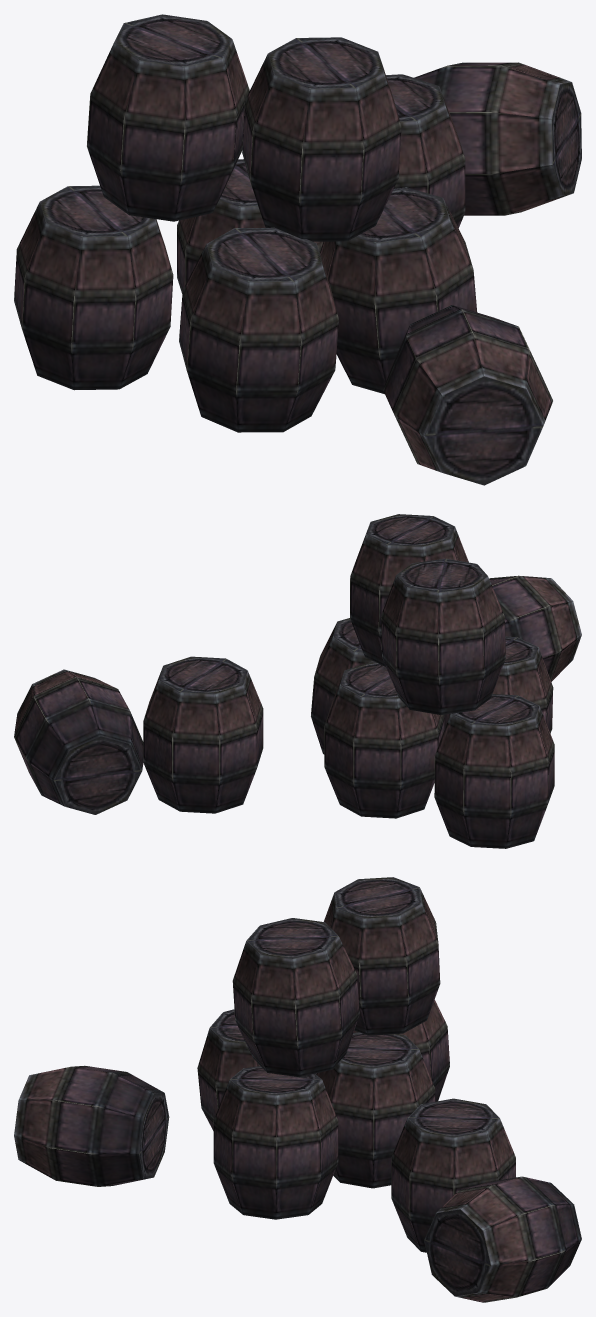
The picture shows the model from 3 angles, top to bottom: view 1: azimuth 30°, elevation 25°; view 2: azimuth 150°, elevation 25°; view 3: azimuth 270°, elevation 25°; orthographic projection. The views are drawn at different scales.
Visible parts, largest first — view 1: object66; view 2: object66; view 3: object66.
Part boxes in pixels (<box>): object66: <box>14,14,581,485</box>; object66: <box>14,514,581,848</box>; object66: <box>14,877,581,1302</box>.
Size of the model in its own units: 443 by 225 by 453.
Materials: 1 (1 with a texture image).
